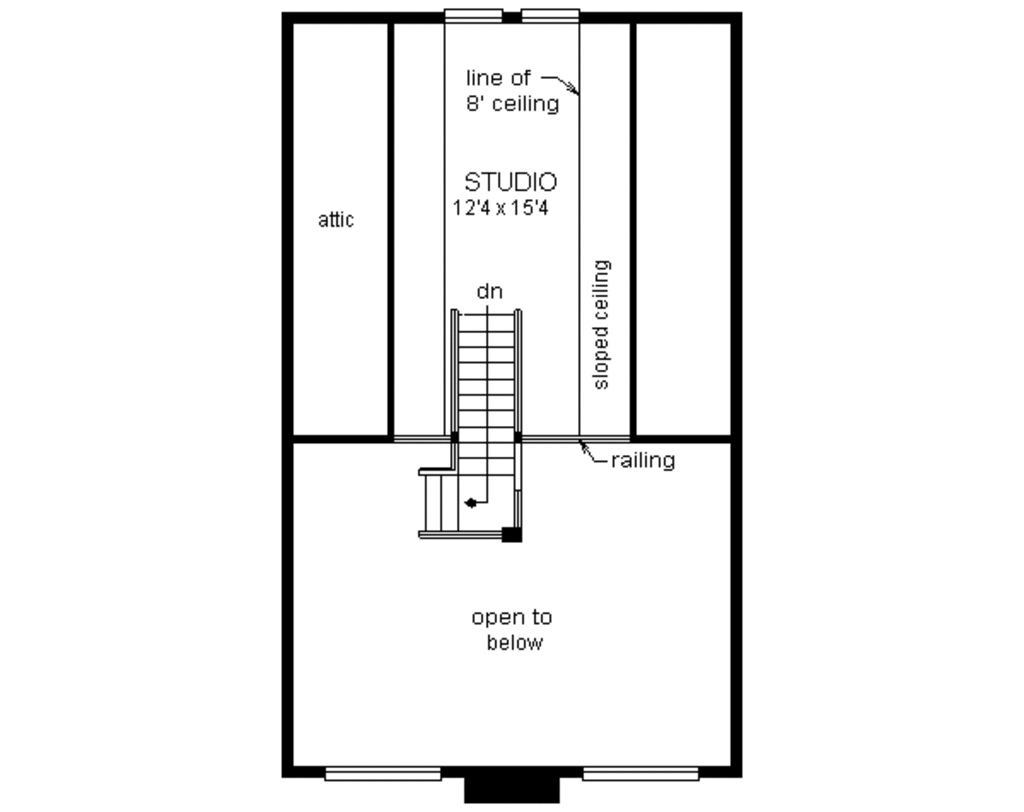stairs: (418, 299, 538, 568)
window: (321, 764, 448, 788), (581, 759, 704, 783), (435, 8, 515, 27), (521, 5, 580, 27)
